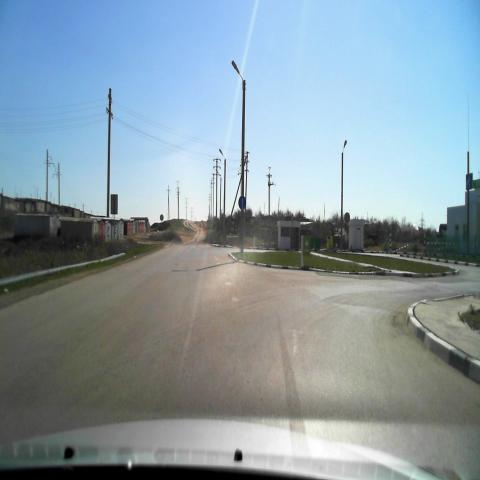4_1_1: (238, 196, 246, 210)
